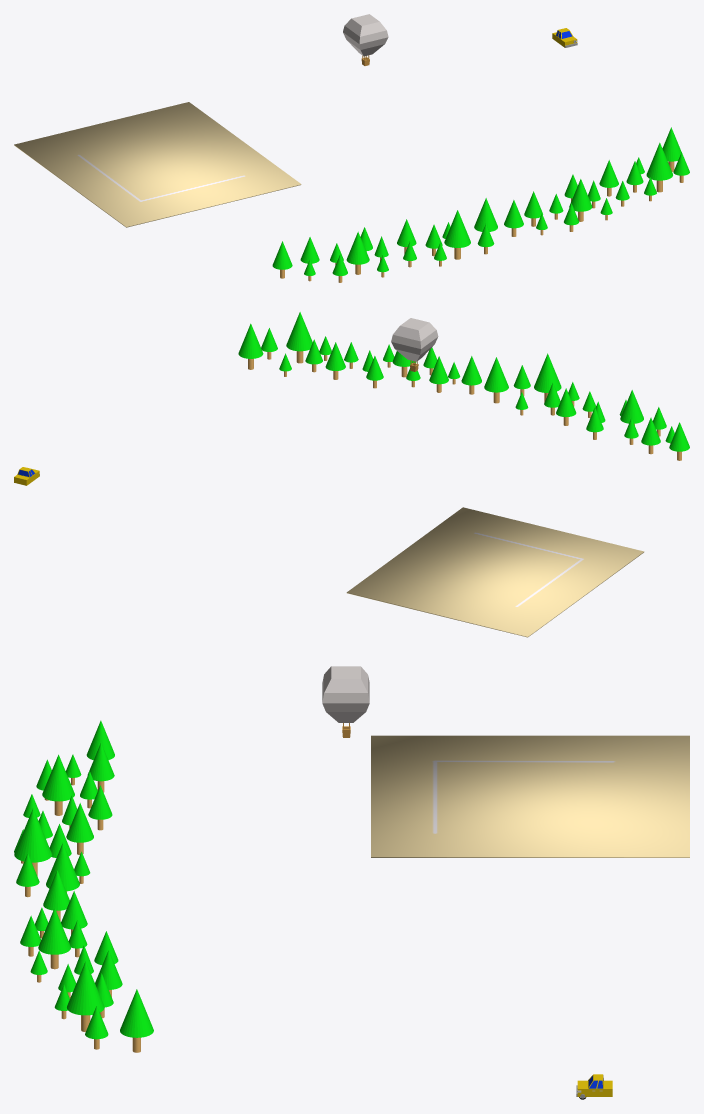
Rendered from mizusawa_sousyoku.glb.
The picture shows the model from 3 angles, top to bottom: view 1: azimuth 30°, elevation 25°; view 2: azimuth 150°, elevation 25°; view 3: azimuth 270°, elevation 25°; orthographic projection. The views are drawn at different scales.
Parts seen in each view (by area): view 1: 平面, 立方体.037, 円錐.012, 円錐.029, 円錐.033, 円錐.022, 円錐.005; view 2: 平面, 立方体.037, 円錐.012, 円錐.029, 円錐.033, 円錐.016; view 3: 平面, 立方体.037, 円錐.012, 円錐.029, 円錐.016, 円錐.005, 円錐.022, 円錐.033, 円錐, Cube.
Part boxes in pixels (bbox=[...]): 平面: bbox=[14, 102, 301, 227]; 立方体.037: bbox=[343, 14, 388, 56]; 円錐.012: bbox=[646, 142, 672, 180]; 円錐.029: bbox=[444, 210, 470, 247]; 円錐.033: bbox=[474, 198, 497, 231]; 円錐.022: bbox=[346, 231, 369, 264]; 円錐.005: bbox=[569, 179, 592, 211]; 平面: bbox=[346, 507, 644, 637]; 立方体.037: bbox=[391, 318, 438, 361]; 円錐.012: bbox=[286, 312, 312, 351]; 円錐.029: bbox=[534, 353, 561, 392]; 円錐.033: bbox=[484, 357, 508, 392]; 円錐.016: bbox=[238, 323, 263, 358]; 平面: bbox=[371, 735, 689, 857]; 立方体.037: bbox=[322, 666, 369, 722]; 円錐.012: bbox=[67, 961, 104, 1015]; 円錐.029: bbox=[14, 808, 51, 862]; 円錐.016: bbox=[120, 989, 153, 1037]; 円錐.005: bbox=[38, 908, 70, 954]; 円錐.022: bbox=[42, 754, 74, 801]; 円錐.033: bbox=[46, 843, 79, 891]; 円錐: bbox=[43, 870, 69, 921]; Cube: bbox=[577, 1074, 612, 1096].
Size of the model in its own units: 55.39 by 15.93 by 43.57.
9 materials, 5 textured.
